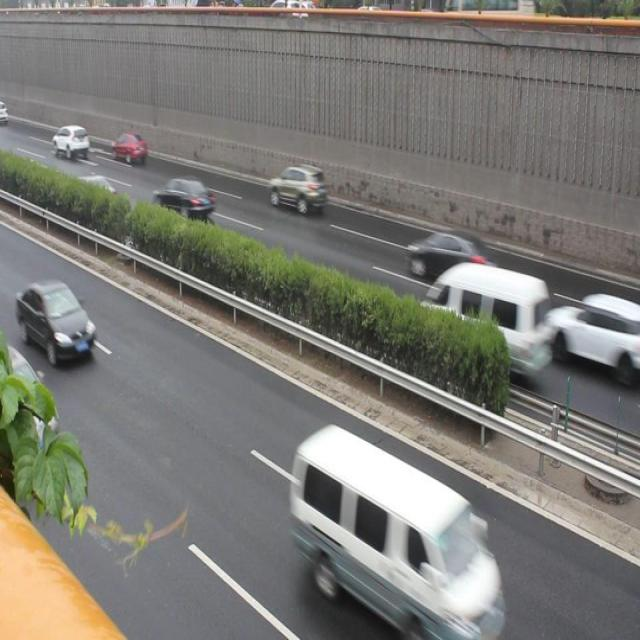car: (544, 280, 640, 374), (0, 341, 62, 460), (17, 278, 94, 371), (402, 226, 494, 284), (267, 160, 325, 218), (151, 172, 214, 222), (68, 168, 120, 210), (50, 124, 92, 162), (110, 128, 150, 160)
truck: (284, 422, 502, 640), (421, 262, 558, 377)
